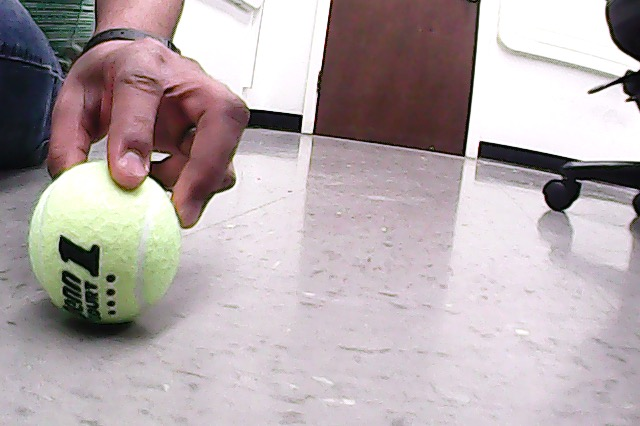ball: (30, 160, 181, 325)
